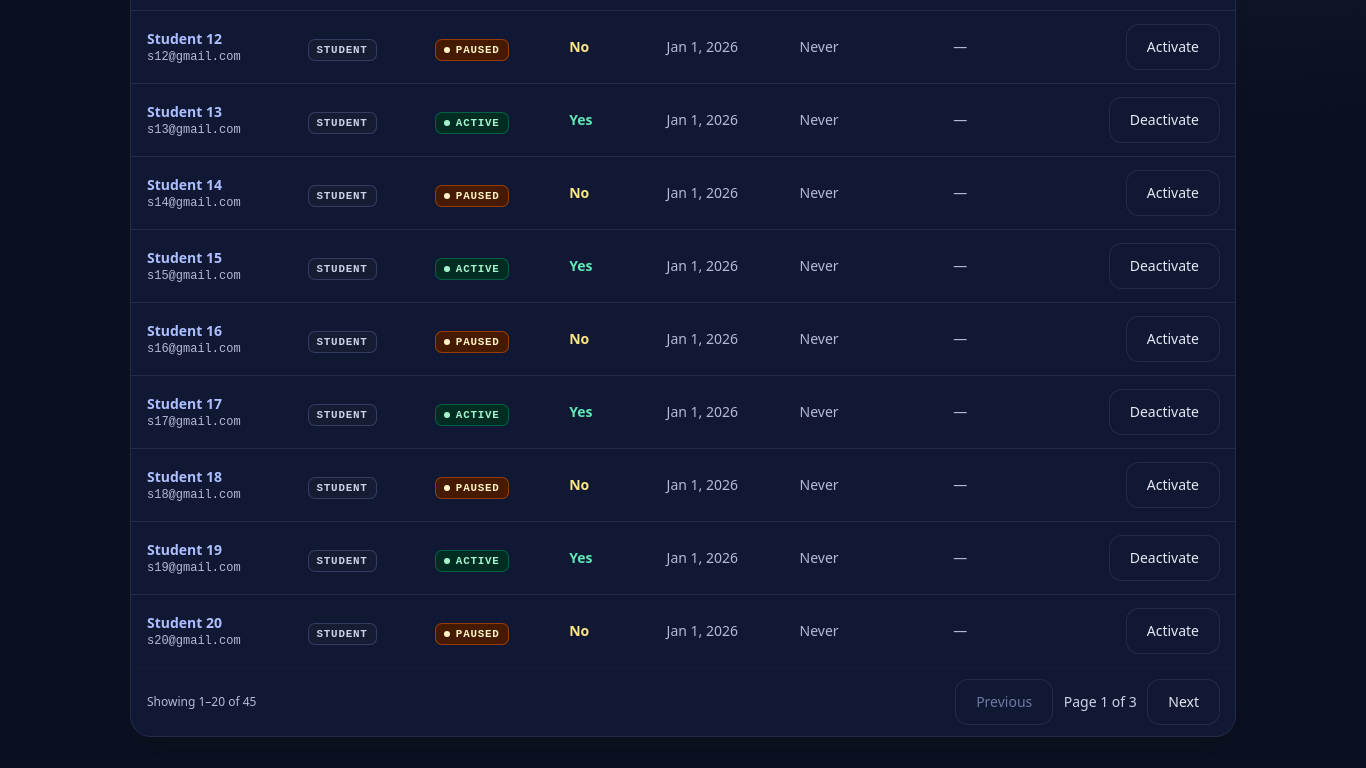
Users & Access: 20 rows per page › pages 45 accounts as 20 + 20 + 5, and a new filter returns to page 1
This screenshot has width=1366, height=768.
(page scrolled)
expect the text "Showing 1–20 of 45" is shown: met, box x1=147 y1=694 x2=256 y2=710
Click the button with aria-label "Accounts pagination: next page": click(1184, 702) x1=1148 y1=680 x2=1219 y2=724
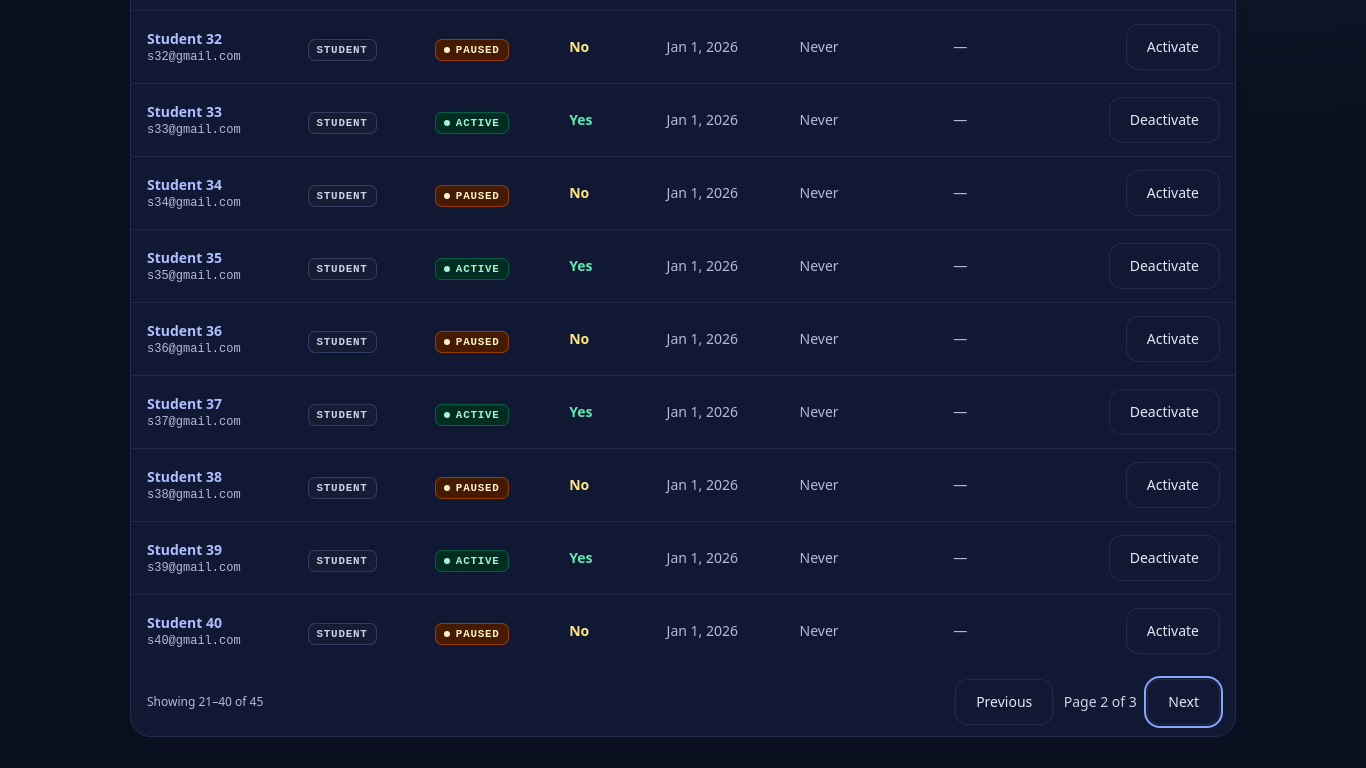
expect the text "Showing 21–40 of 45" is shown: met, box x1=147 y1=694 x2=263 y2=710
Click the button with aria-label "Accounts pagination: next page": click(1184, 702) x1=1148 y1=680 x2=1219 y2=724
(page scrolled)
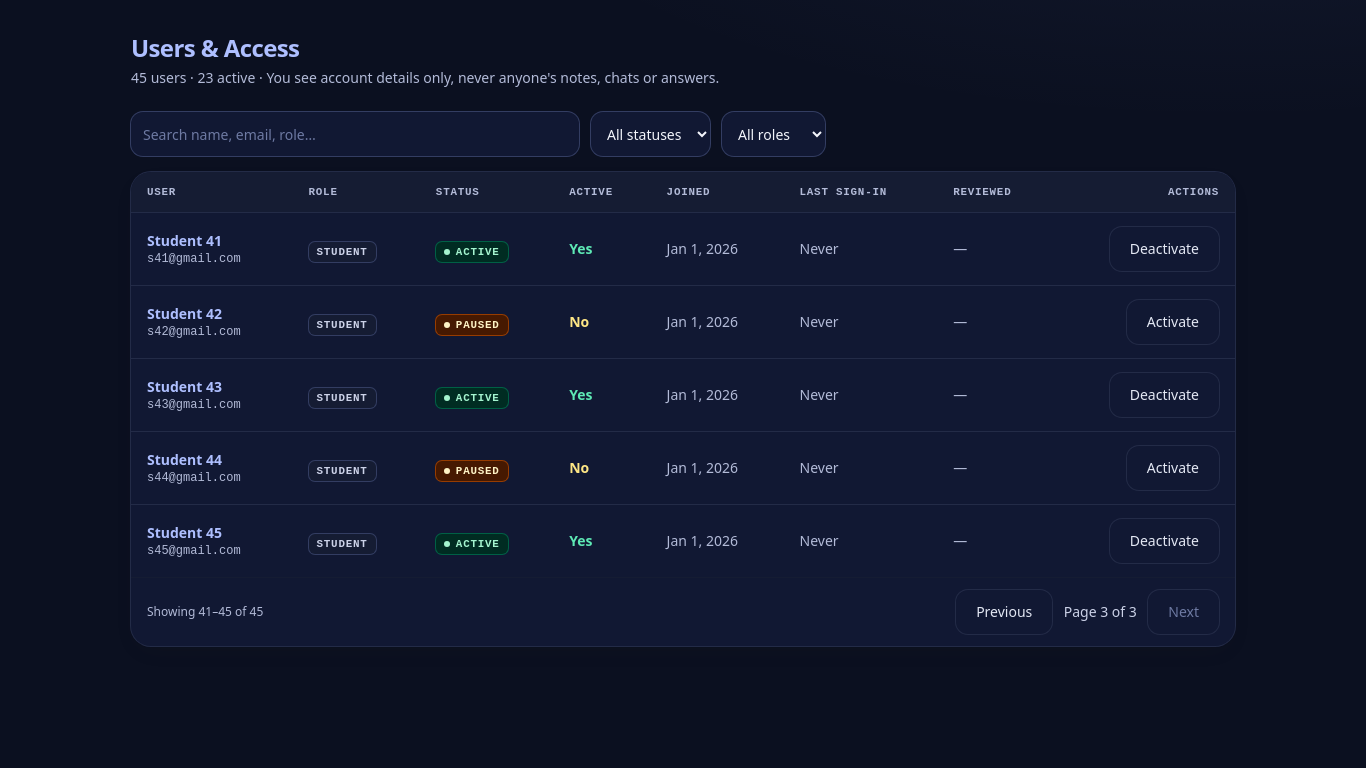
expect the button with aria-label "Accounts pagination: next page" is disabled: met, box x1=1148 y1=590 x2=1219 y2=634
Select "Paused" in the 1st dropdown named "Status": (650, 134) x1=591 y1=112 x2=710 y2=156
(page scrolled)
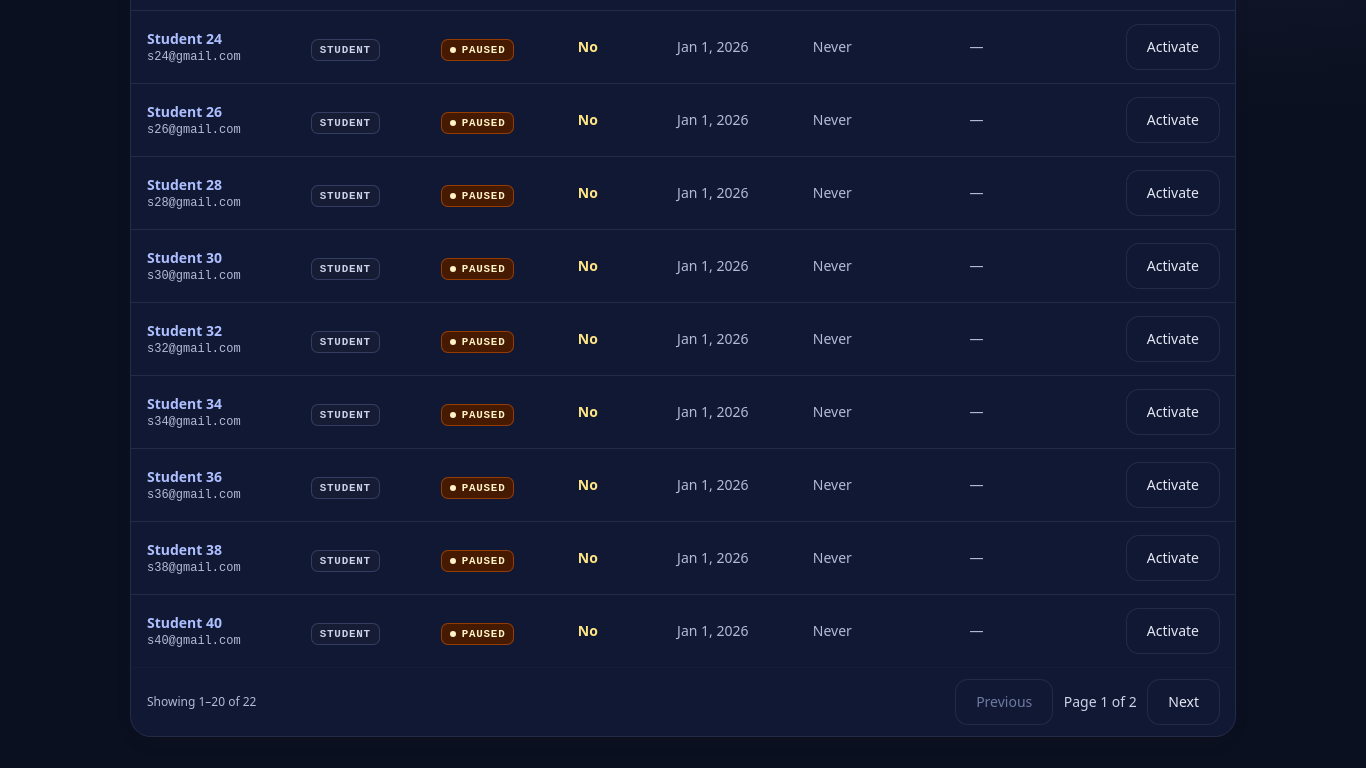
expect the text "Showing 1–20 of 22" is shown: met, box x1=147 y1=694 x2=256 y2=710
